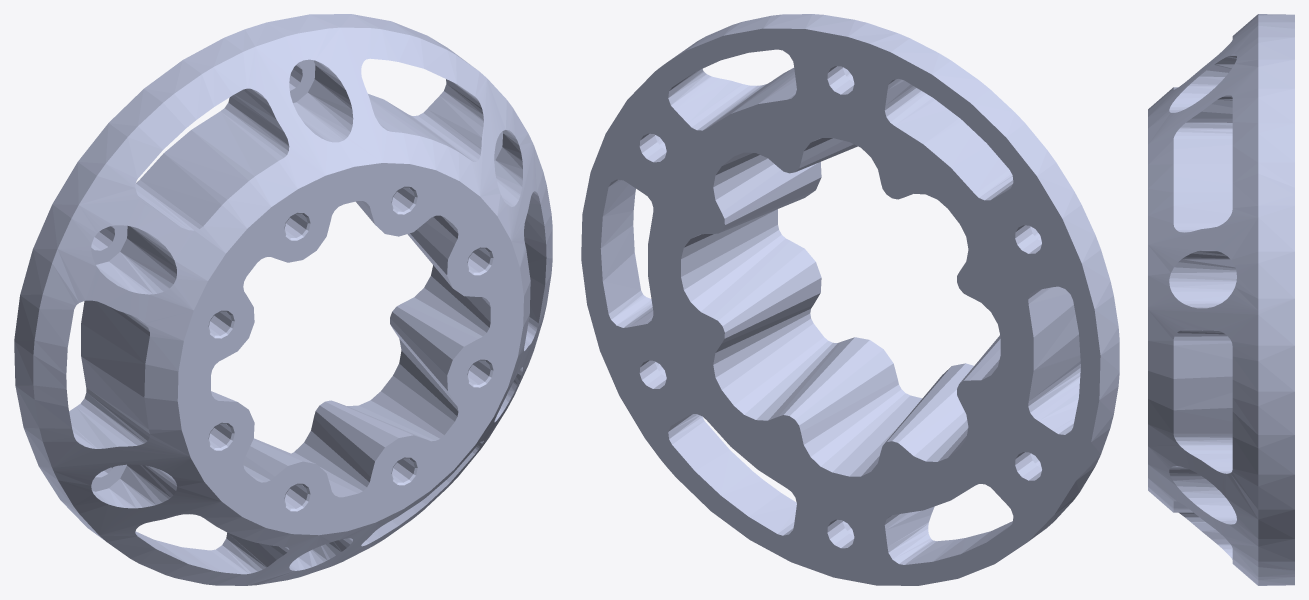
The model's file is ATS_01_base_link_visuals_base_link_mesh.obj.
3 views of the same model, side by side, from view 1: azimuth 30°, elevation 25°; view 2: azimuth 150°, elevation 25°; view 3: azimuth 270°, elevation 25° (orthographic). The views are drawn at different scales.
Bounding box in the file's own units: 0.2434 × 0.2437 × 0.0625.
